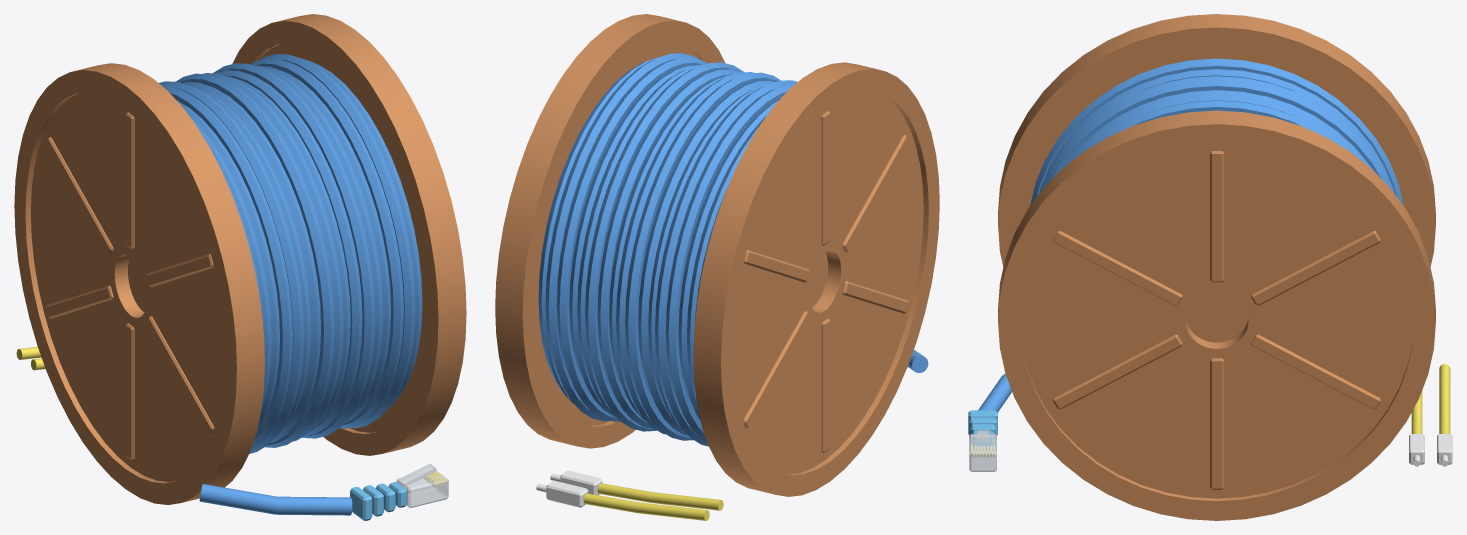
The model's file is dc_cable_spool.glb.
3 renders of one model, left to right at view 1: azimuth 30°, elevation 25°; view 2: azimuth 150°, elevation 25°; view 3: azimuth 270°, elevation 25°, orthographic.
Visible parts, largest first — view 1: Spool_Reel_Drum, Wound_100m_Cable_Coils, RJ45_CAT6E_Connector; view 2: Spool_Reel_Drum, Wound_100m_Cable_Coils, Duplex_LC_Fiber_Connector; view 3: Spool_Reel_Drum, Wound_100m_Cable_Coils, RJ45_CAT6E_Connector, Duplex_LC_Fiber_Connector.
Boxes of the visible parts, box(x1,y1,x2,y2) form: Spool_Reel_Drum: box(14, 14, 466, 504); Wound_100m_Cable_Coils: box(159, 54, 422, 453); RJ45_CAT6E_Connector: box(199, 463, 448, 520); Spool_Reel_Drum: box(495, 14, 939, 496); Wound_100m_Cable_Coils: box(538, 53, 797, 446); Duplex_LC_Fiber_Connector: box(536, 470, 723, 520); Spool_Reel_Drum: box(998, 14, 1435, 520); Wound_100m_Cable_Coils: box(1030, 58, 1403, 205); RJ45_CAT6E_Connector: box(968, 374, 1011, 471); Duplex_LC_Fiber_Connector: box(1409, 364, 1452, 466).
Size of the model in its own units: 0.2764 by 0.44 by 0.487.
